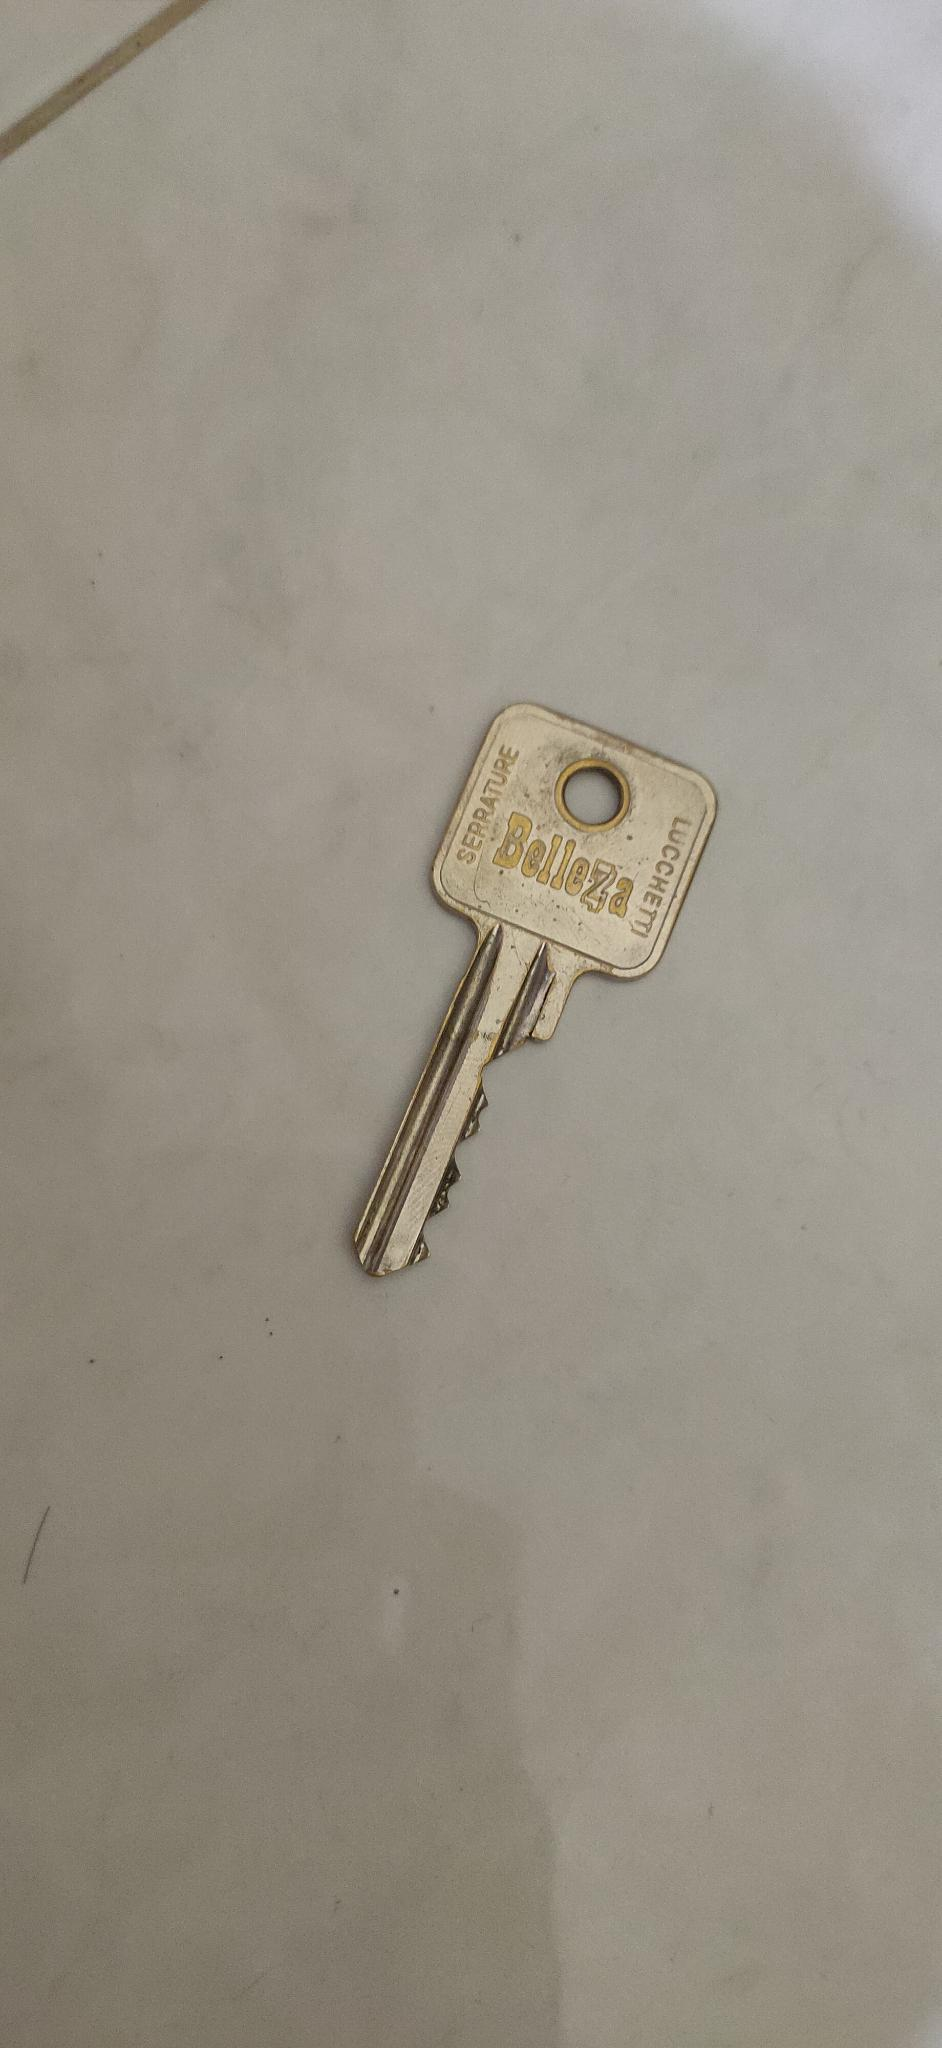keys: (320, 667, 759, 1320)
